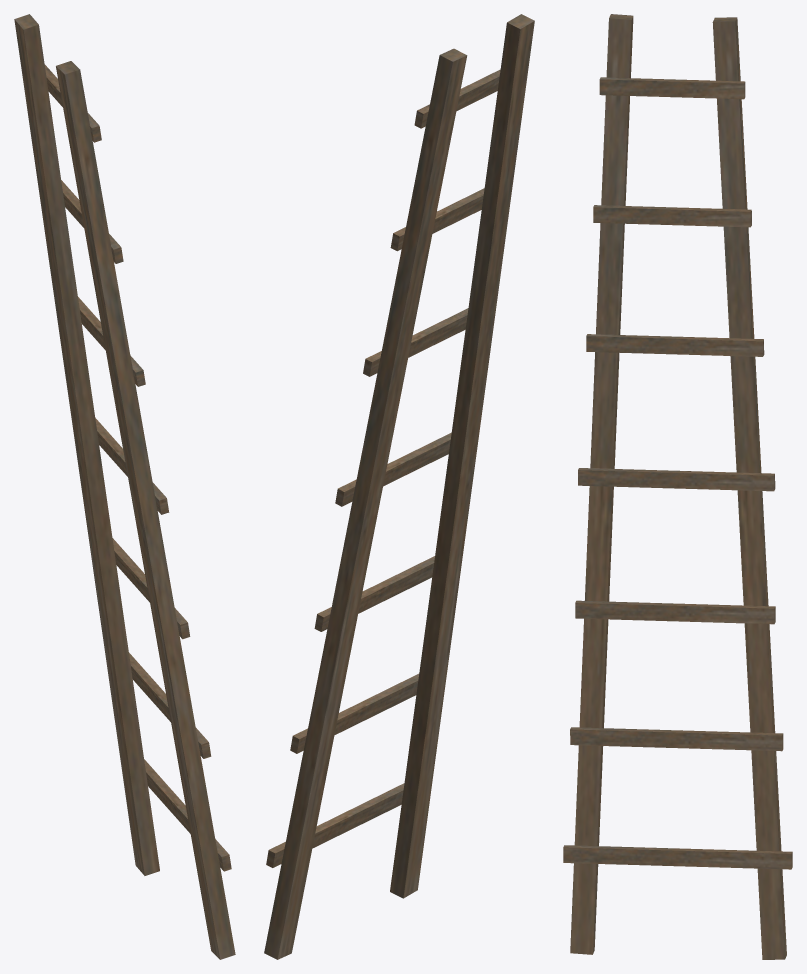
File: xiaowupin07.fbx
3 renders of one model, left to right at view 1: azimuth 30°, elevation 25°; view 2: azimuth 150°, elevation 25°; view 3: azimuth 270°, elevation 25°, orthographic. The views are drawn at different scales.
Parts seen in each view (by area): view 1: ladder_1; view 2: ladder_1; view 3: ladder_1.
Part boxes in pixels (x1,y1,x2,y2): ladder_1: [14, 14, 235, 959]; ladder_1: [264, 14, 534, 959]; ladder_1: [563, 14, 792, 959].
Size of the model in its own units: 71.58 by 353 by 83.65.
1 material, 1 textured.
